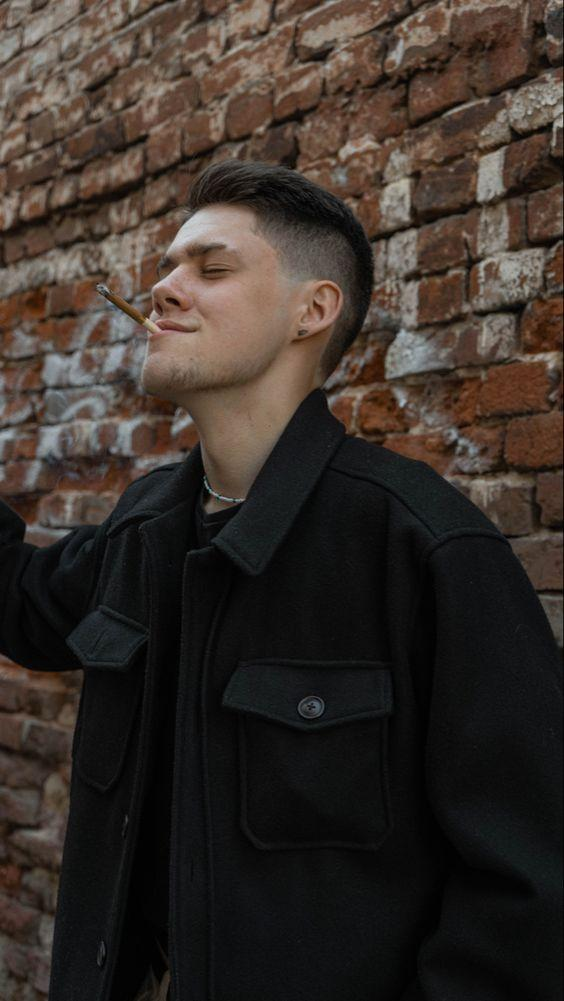cigarette: (97, 284, 162, 333)
